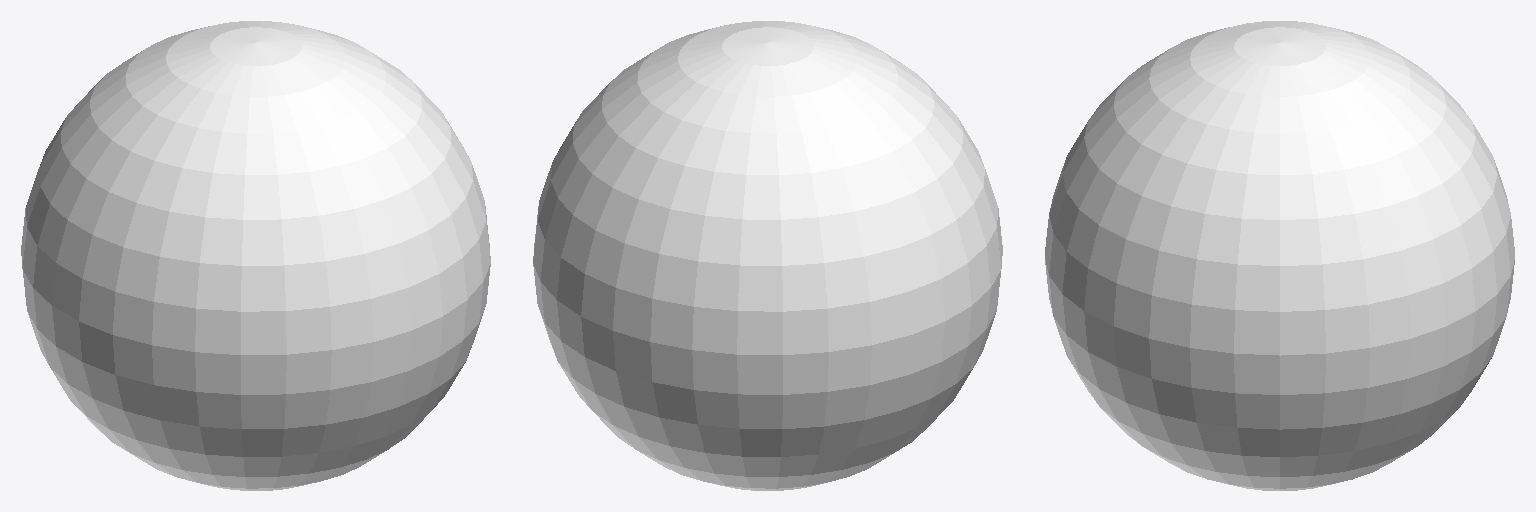
3 views of the same model, side by side, from view 1: azimuth 30°, elevation 25°; view 2: azimuth 150°, elevation 25°; view 3: azimuth 270°, elevation 25° (orthographic).
Parts seen in each view (by area): view 1: Sphere; view 2: Sphere; view 3: Sphere.
Boxes of the visible parts, x1=… form: Sphere: x1=21, y1=21, x2=490, y2=490; Sphere: x1=533, y1=21, x2=1002, y2=490; Sphere: x1=1045, y1=21, x2=1514, y2=490.
Size of the model in its own units: 4 by 4 by 4.
Materials: 1 (1 with a texture image).